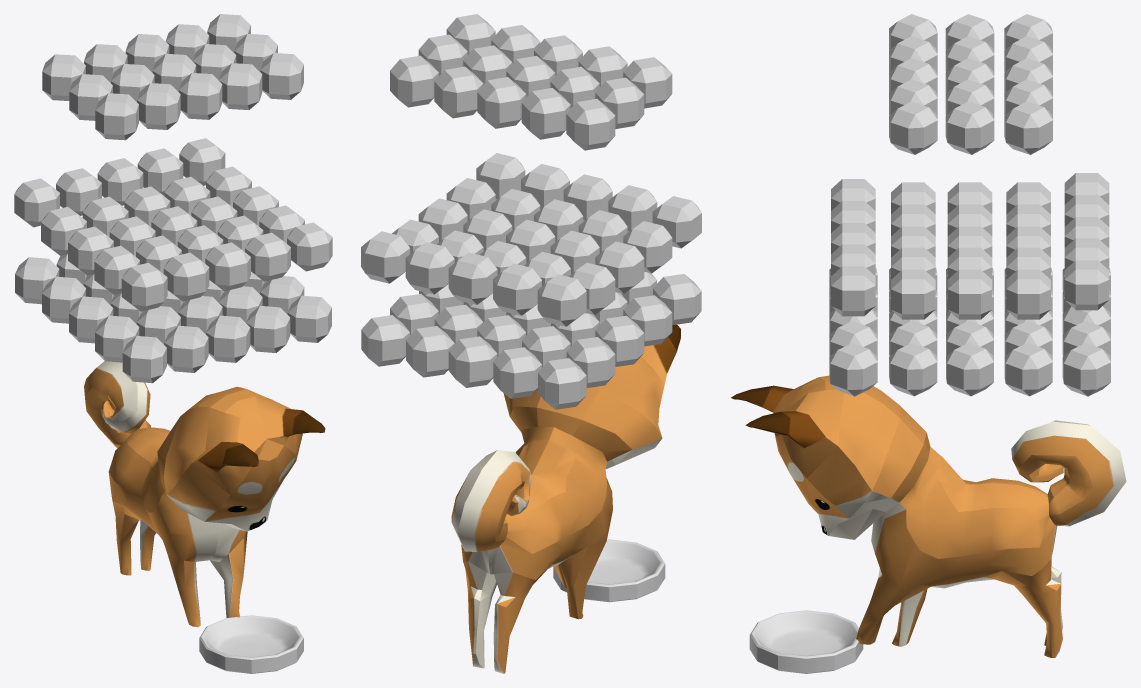
Rendered from emptyBowl_frame17.obj.
3 views of the same model, side by side, from view 1: azimuth 30°, elevation 25°; view 2: azimuth 150°, elevation 25°; view 3: azimuth 270°, elevation 25° (orthographic). The views are drawn at different scales.
Visible parts, largest first — view 1: newRigging1:BodzL1, FressnapfLeer:pCylinder1, FressnapfFull:pCube46, FressnapfFull:pCube57, FressnapfFull:pCube45, FressnapfFull:pCube48, FressnapfFull:pCube43, FressnapfFull:pCube36, FressnapfFull:pCube42, FressnapfFull:pCube49, FressnapfFull:pCube50, FressnapfFull:pCube59 (+44 smaller); view 2: newRigging1:BodzL1, FressnapfLeer:pCylinder1, FressnapfFull:pCube39, FressnapfFull:pCube51, FressnapfFull:pCube64, FressnapfFull:pCube53, FressnapfFull:pCube37, FressnapfFull:pCube54, FressnapfFull:pCube55, FressnapfFull:pCube38, FressnapfFull:pCube41, FressnapfFull:pCube65 (+48 smaller); view 3: newRigging1:BodzL1, FressnapfLeer:pCylinder1, FressnapfFull:pCube31, FressnapfFull:pCube50, FressnapfFull:pCube15, FressnapfFull:pCube36, FressnapfFull:pCube10, FressnapfFull:pCube55, FressnapfFull:pCube30, FressnapfFull:pCube65, FressnapfFull:pCube41, FressnapfFull:pCube4 (+42 smaller).
Boxes of the visible parts, x1,y1,x2,y2 form: newRigging1:BodzL1: (84,361,325,627); FressnapfLeer:pCylinder1: (199,615,303,673); FressnapfFull:pCube46: (122,336,166,383); FressnapfFull:pCube57: (121,262,167,311); FressnapfFull:pCube45: (95,93,138,140); FressnapfFull:pCube48: (206,315,250,362); FressnapfFull:pCube43: (178,73,222,119); FressnapfFull:pCube36: (260,53,303,99); FressnapfFull:pCube42: (137,83,180,129); FressnapfFull:pCube49: (164,325,208,372); FressnapfFull:pCube50: (287,295,331,342); FressnapfFull:pCube59: (163,252,209,301); newRigging1:BodzL1: (451,324,680,673); FressnapfLeer:pCylinder1: (553,539,665,602); FressnapfFull:pCube39: (566,98,615,150); FressnapfFull:pCube51: (538,358,586,409); FressnapfFull:pCube64: (537,274,586,326); FressnapfFull:pCube53: (448,336,497,387); FressnapfFull:pCube37: (521,88,570,139); FressnapfFull:pCube54: (493,347,541,398); FressnapfFull:pCube55: (361,315,409,366); FressnapfFull:pCube38: (477,77,526,128); FressnapfFull:pCube41: (390,55,438,107); FressnapfFull:pCube65: (361,231,410,283); newRigging1:BodzL1: (731,375,1126,657); FressnapfLeer:pCylinder1: (749,610,863,673); FressnapfFull:pCube31: (945,101,994,154); FressnapfFull:pCube50: (829,343,877,396); FressnapfFull:pCube15: (1004,343,1052,396); FressnapfFull:pCube36: (889,101,937,154); FressnapfFull:pCube10: (889,343,937,396); FressnapfFull:pCube55: (1062,343,1110,396); FressnapfFull:pCube30: (947,269,992,319); FressnapfFull:pCube65: (1064,260,1109,310); FressnapfFull:pCube41: (1004,101,1052,154); FressnapfFull:pCube4: (946,343,993,396).
Bounding box in the file's own units: 5.73 × 14.49 × 8.88.
Materials: 3 (2 with a texture image).
